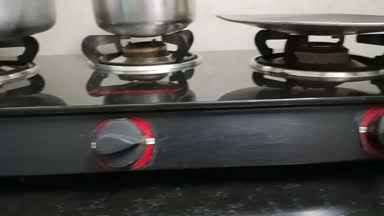flame_gas_off: (77, 26, 200, 174)
